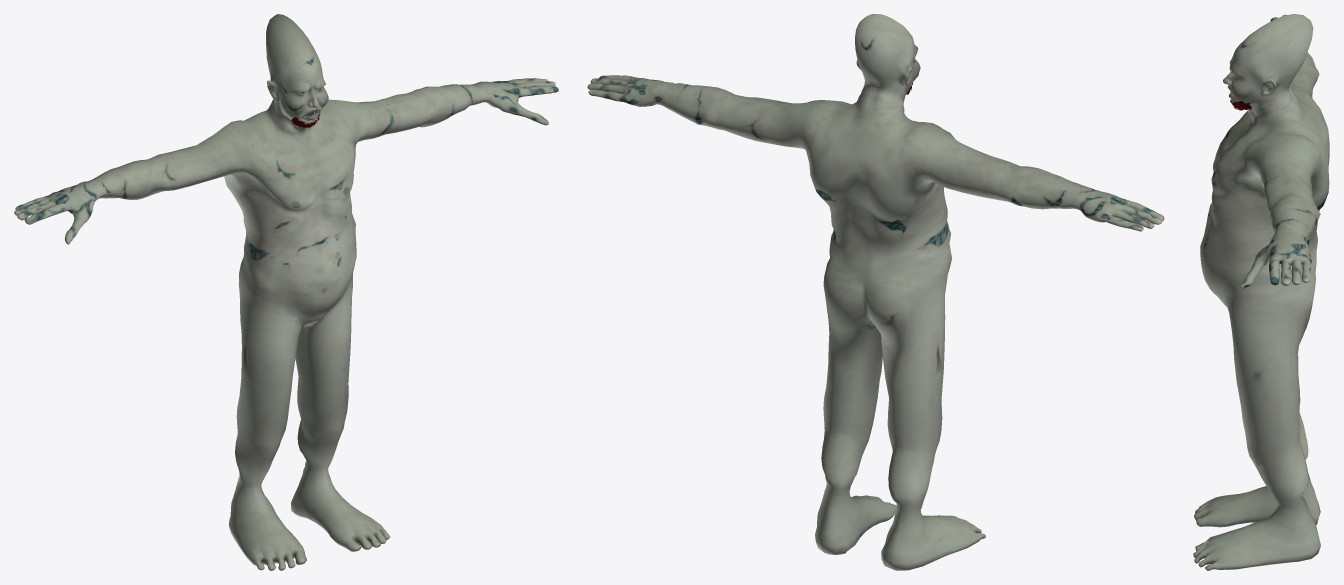
File: Enemy.obj
The picture shows the model from 3 angles, left to right: view 1: azimuth 30°, elevation 25°; view 2: azimuth 150°, elevation 25°; view 3: azimuth 270°, elevation 25°; orthographic projection. The views are drawn at different scales.
Visible parts, largest first — view 1: Body; view 2: Body; view 3: Body.
Boxes of the visible parts, x1=… form: Body: x1=14, y1=14, x2=558, y2=570; Body: x1=587, y1=14, x2=1164, y2=570; Body: x1=1193, y1=14, x2=1329, y2=570.
Size of the model in its own units: 202 by 183 by 43.09.
Materials: 1 (1 with a texture image).
